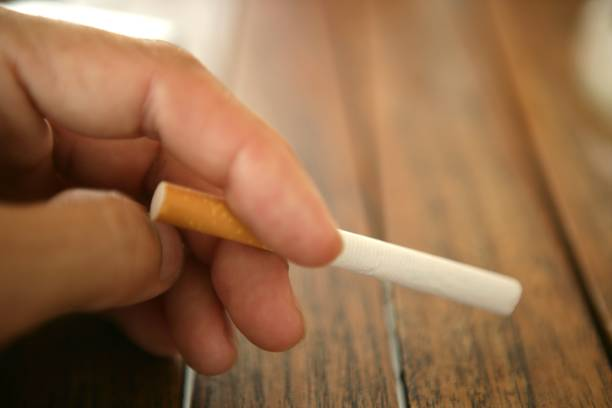cigarette: (148, 182, 524, 318)
